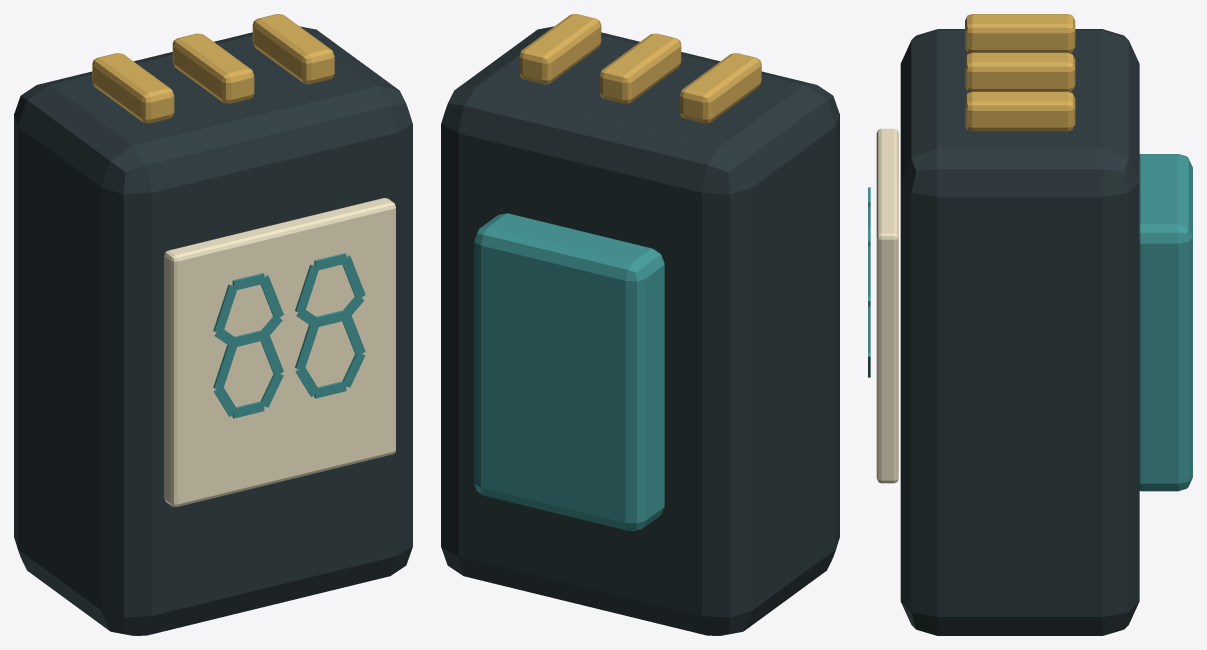
Rendered from P063_battery_pack.glb.
3 renders of one model, left to right at view 1: azimuth 30°, elevation 25°; view 2: azimuth 150°, elevation 25°; view 3: azimuth 270°, elevation 25°, orthographic.
Parts seen in each view (by area): view 1: P063_battery_001, P063_label_003, P063_charge_004, P063_terminal_007, P063_terminal_006, P063_terminal_005; view 2: P063_battery_001, P063_mount_002, P063_terminal_007, P063_terminal_006, P063_terminal_005; view 3: P063_battery_001, P063_mount_002, P063_label_003, P063_terminal_007, P063_terminal_006, P063_terminal_005, P063_charge_004.
Part boxes in pixels (bbox=[...]): P063_battery_001: bbox=[14, 26, 412, 635]; P063_label_003: bbox=[164, 198, 395, 506]; P063_charge_004: bbox=[213, 253, 365, 418]; P063_terminal_007: bbox=[252, 14, 334, 84]; P063_terminal_006: bbox=[172, 33, 254, 103]; P063_terminal_005: bbox=[92, 53, 174, 123]; P063_battery_001: bbox=[441, 26, 839, 635]; P063_mount_002: bbox=[474, 213, 664, 530]; P063_terminal_007: bbox=[519, 14, 601, 84]; P063_terminal_006: bbox=[599, 33, 681, 103]; P063_terminal_005: bbox=[679, 53, 761, 123]; P063_battery_001: bbox=[900, 29, 1139, 635]; P063_mount_002: bbox=[1139, 154, 1192, 491]; P063_label_003: bbox=[876, 128, 898, 483]; P063_terminal_007: bbox=[965, 91, 1075, 131]; P063_terminal_006: bbox=[965, 52, 1075, 91]; P063_terminal_005: bbox=[965, 14, 1075, 53]; P063_charge_004: bbox=[868, 187, 870, 377].
Bounding box in the file's own units: 0.096 × 0.1555 × 0.0883.
